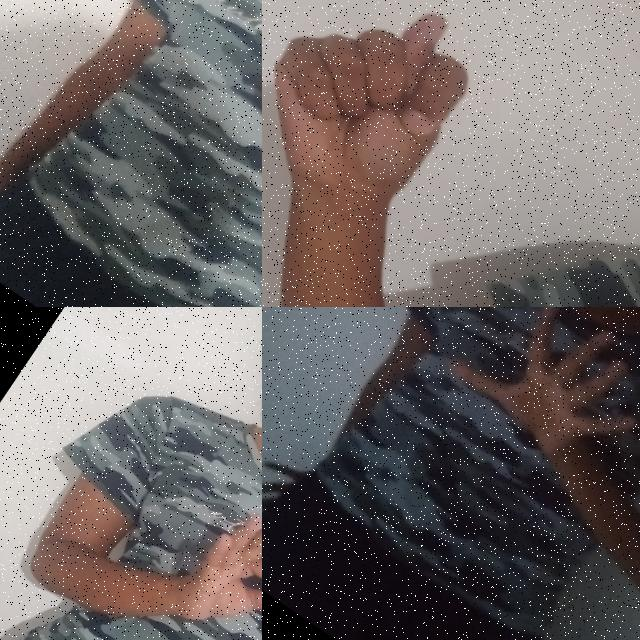Dulya: (262, 0, 528, 283)
Moutza: (418, 307, 640, 516)
Okay: (146, 486, 262, 640), (200, 0, 262, 267)
